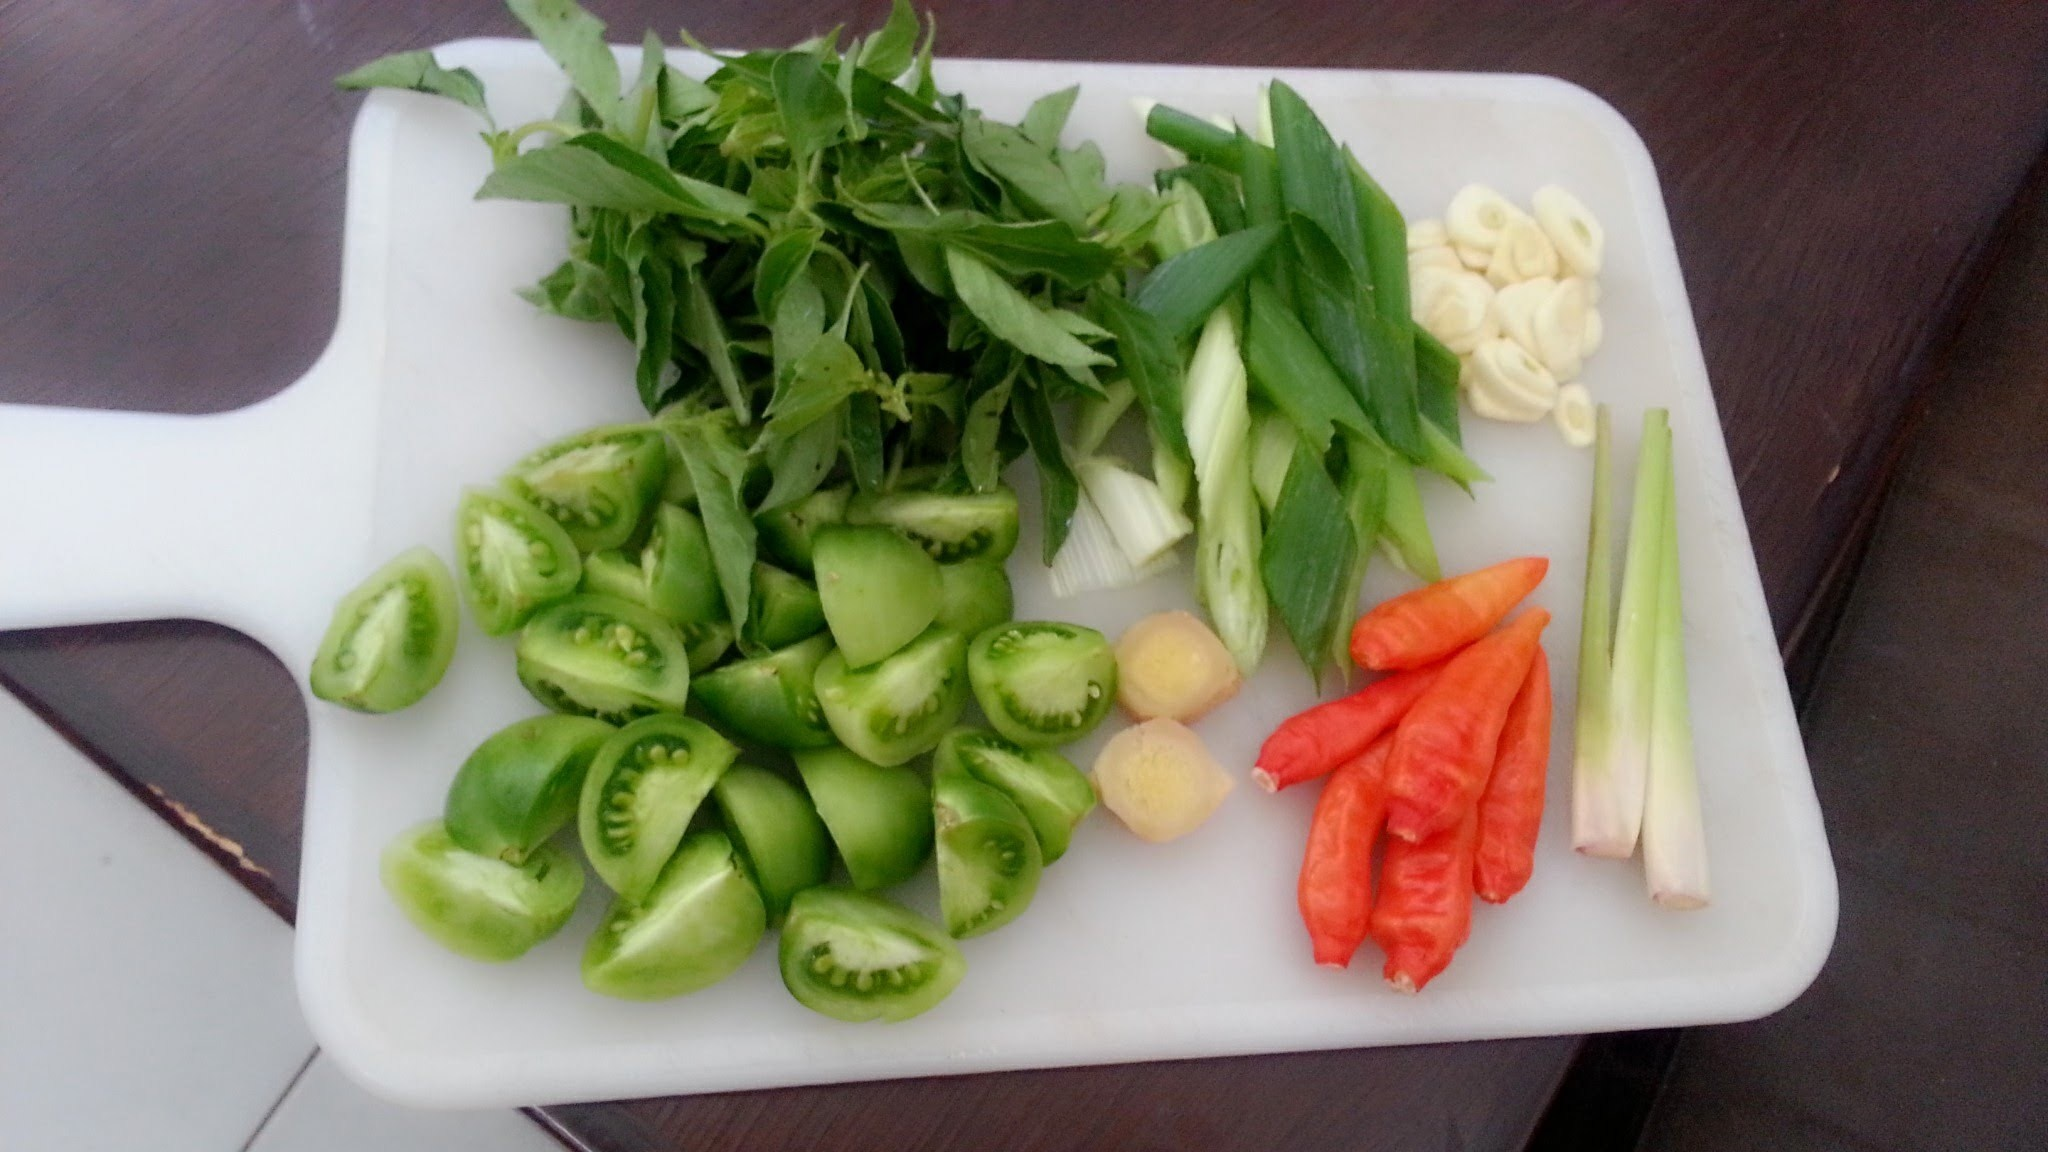background: (477, 308, 1468, 1152)
